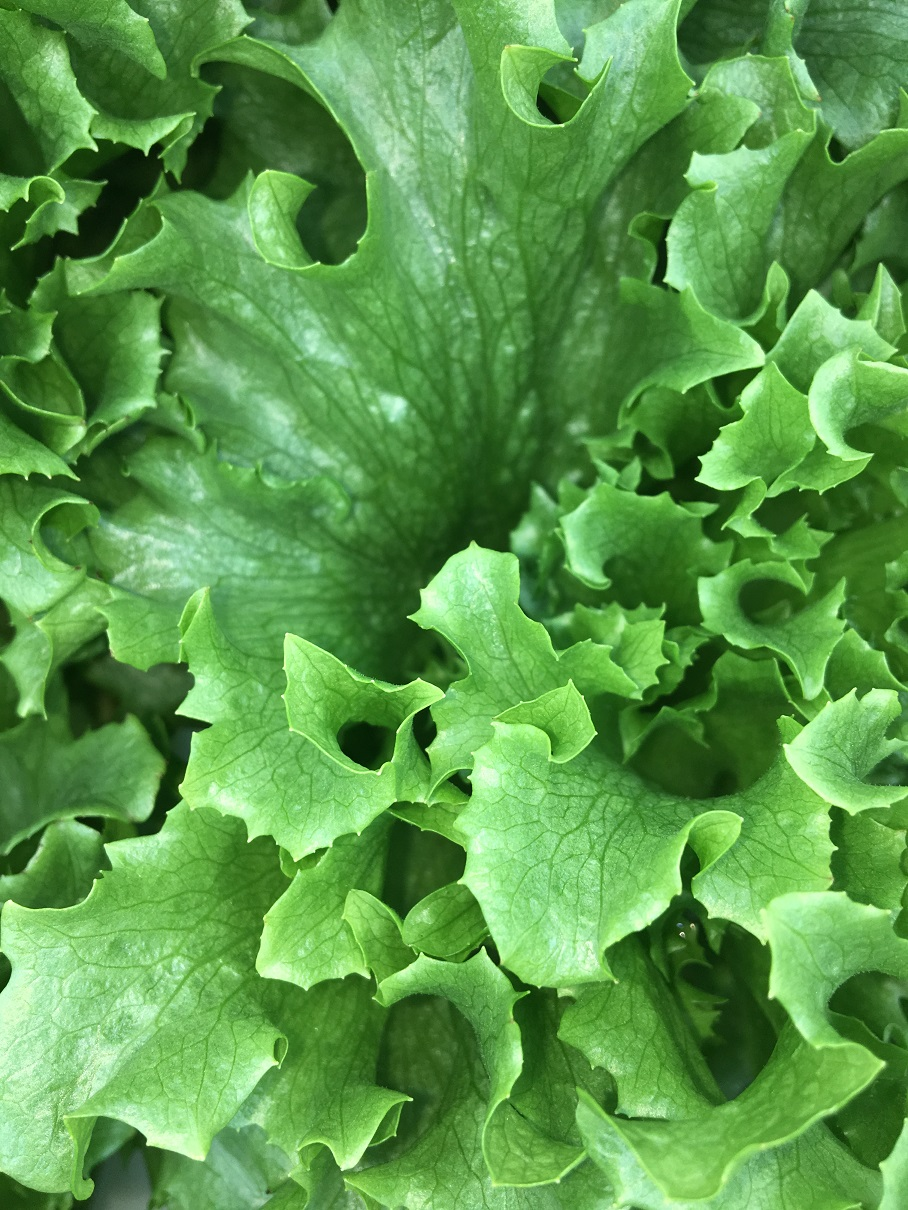tipburn: (57, 399, 118, 446), (62, 547, 110, 585), (13, 521, 52, 559), (775, 1, 816, 30), (806, 79, 839, 115), (498, 31, 532, 58)
